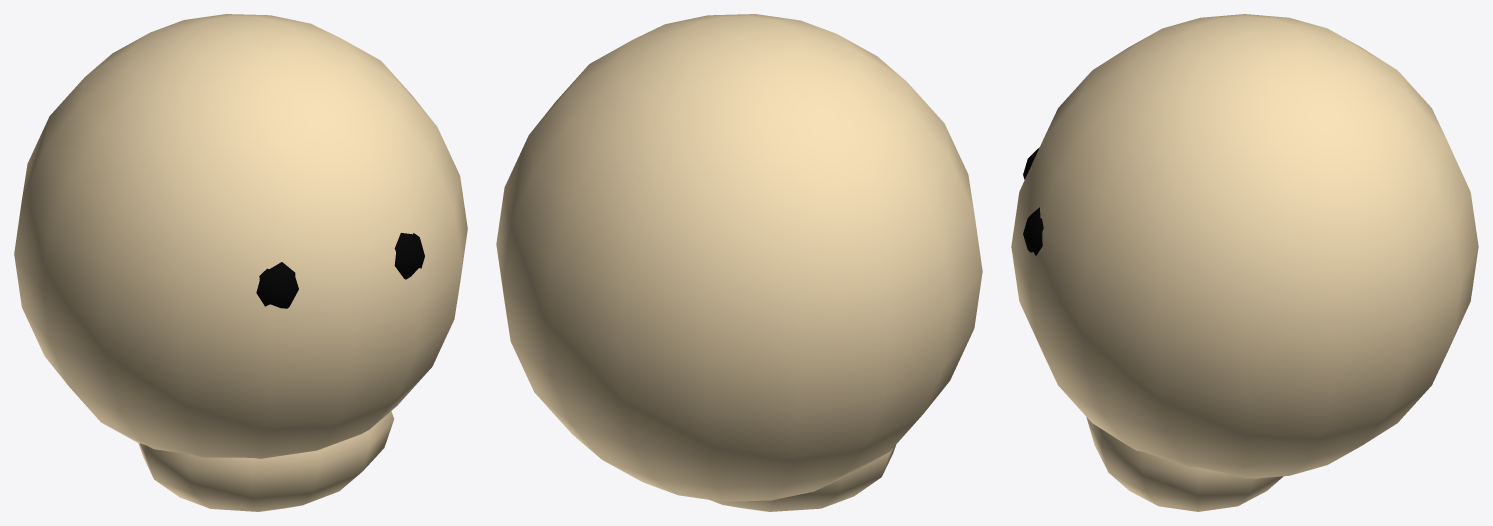
Rendered from crane.glb.
The picture shows the model from 3 angles, left to right: view 1: azimuth 30°, elevation 25°; view 2: azimuth 150°, elevation 25°; view 3: azimuth 270°, elevation 25°; orthographic projection. The views are drawn at different scales.
Bounding box in the file's own units: 1.85 × 2 × 1.85.
